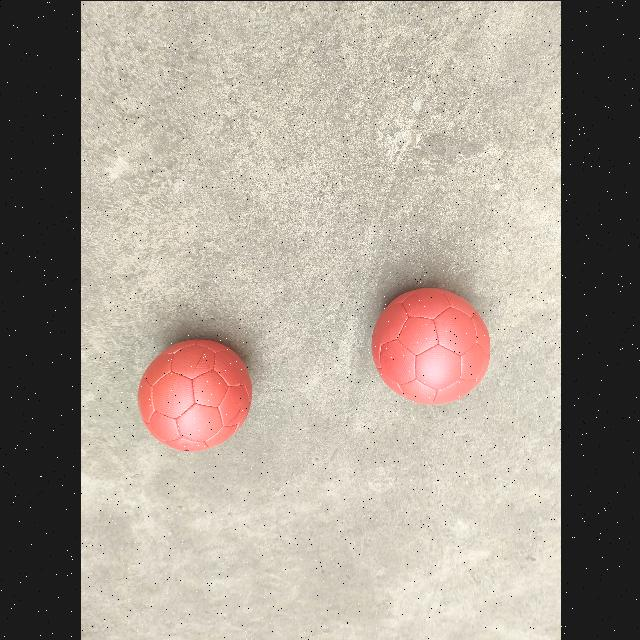R: (370, 286, 490, 404), (137, 337, 251, 451)
